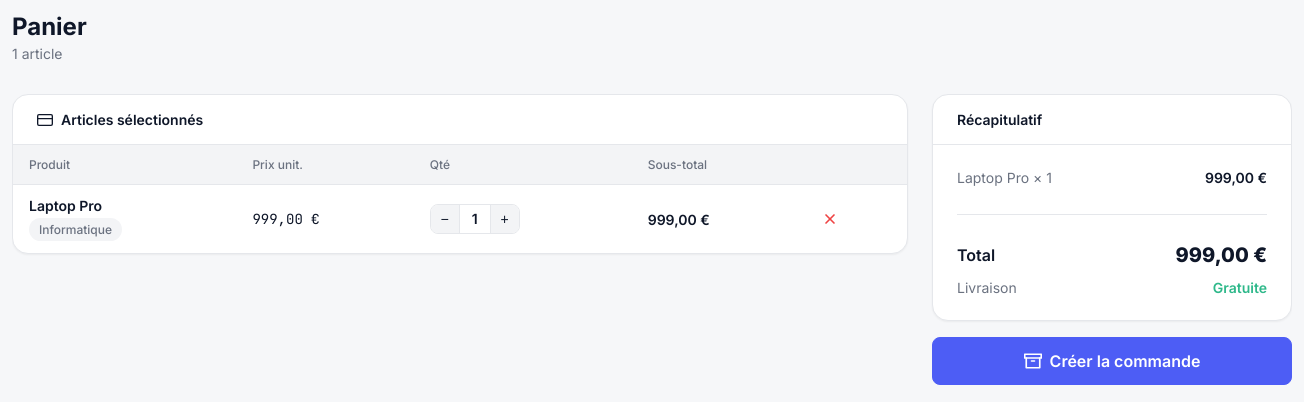
Scenario: CartPage › decrements quantity when − is clicked (removes at 0)
Expected: the text "Laptop Pro" is shown, [29, 197, 102, 214]
Click the button "−" at (445, 219), box [431, 205, 459, 233]
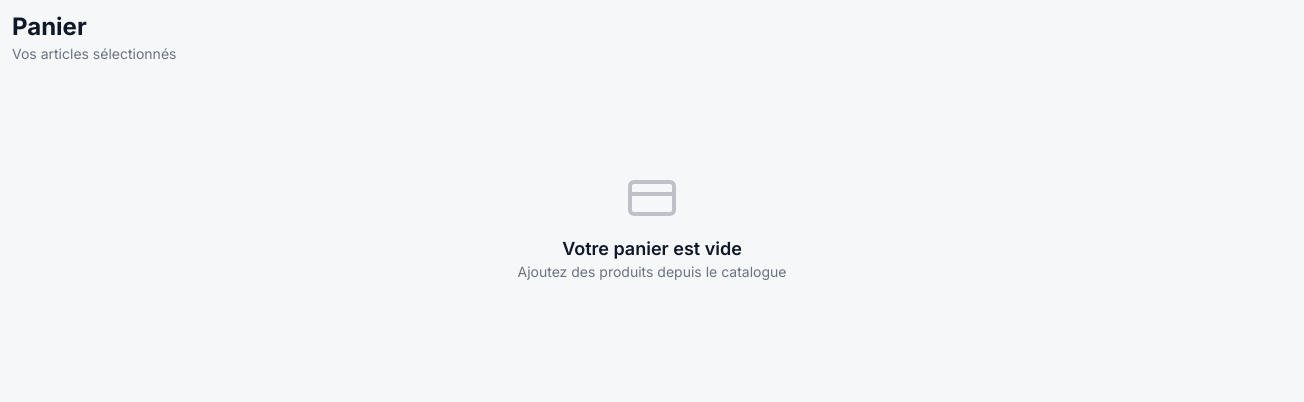
Now the heading "Votre panier est vide" is shown, box [562, 238, 742, 259]
